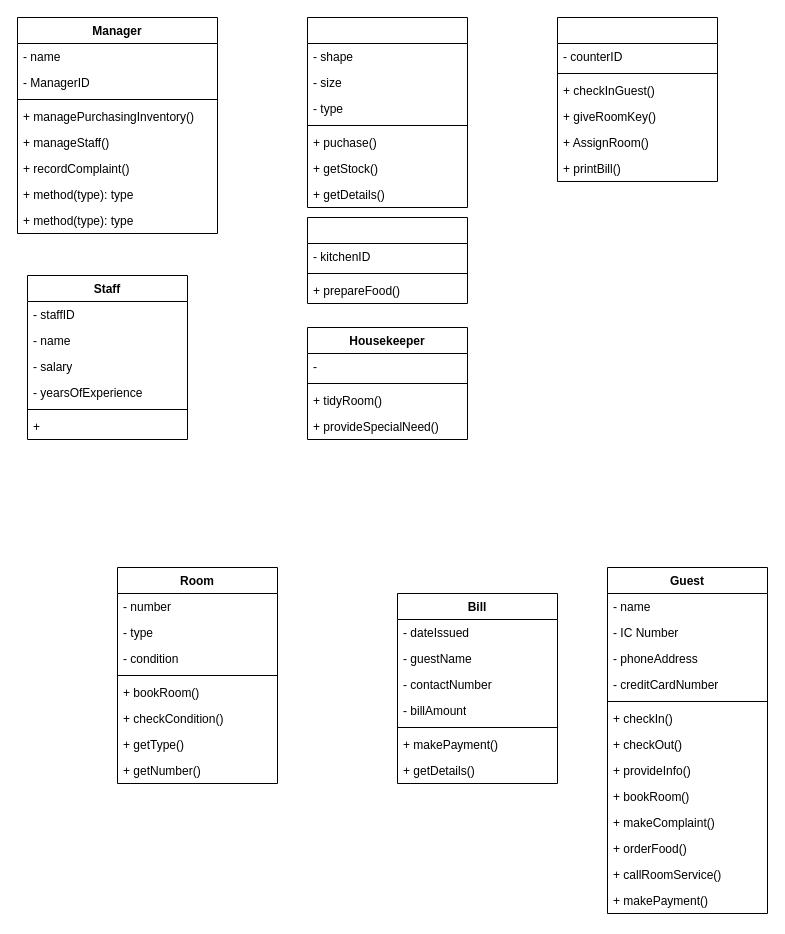
Image size: 785x934. Some labels were removed from this diagram. Each missing label, with the box of its shape:
Chef: (306, 216, 468, 304)
Hotel_Inventory: (306, 16, 468, 208)
Receptionist: (556, 16, 718, 182)
